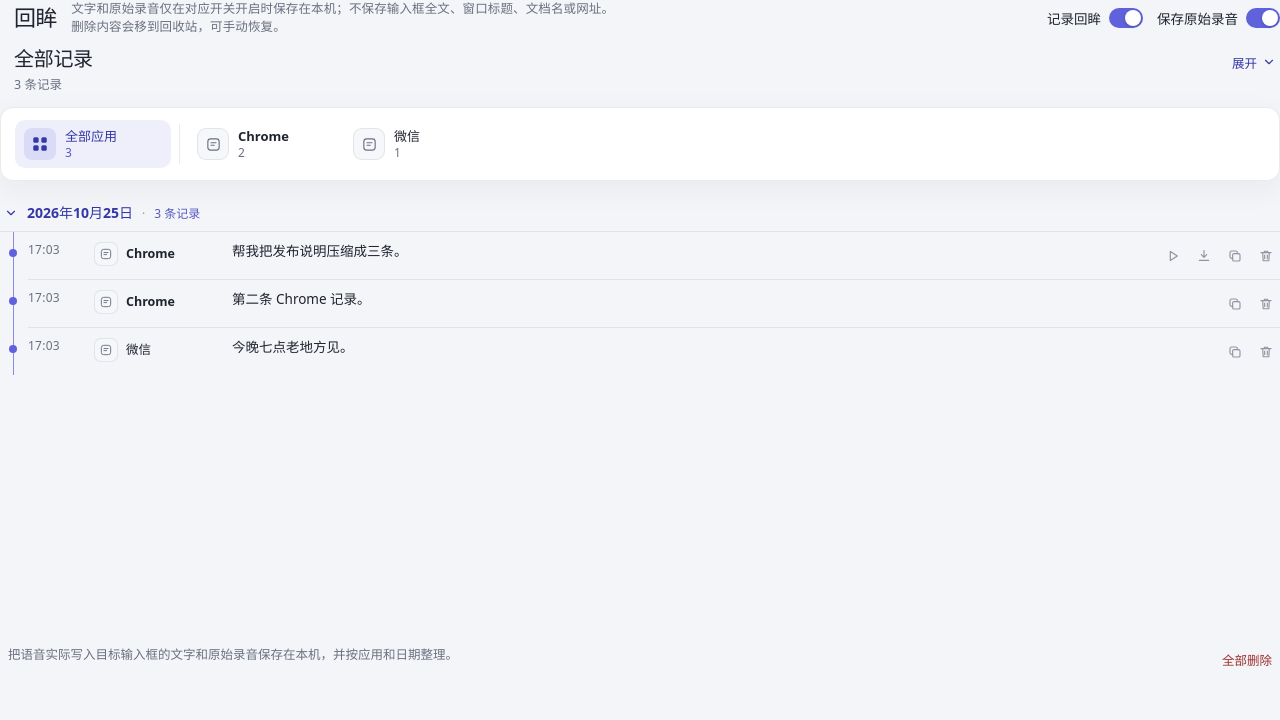
Test: reflections page › deletes the entry and its recording with a single button
Click the button titled "删除这条记录" in the row of "帮我把发布说明压缩成三条。". click: (1266, 256)
box: left=1252, top=242, right=1279, bottom=270
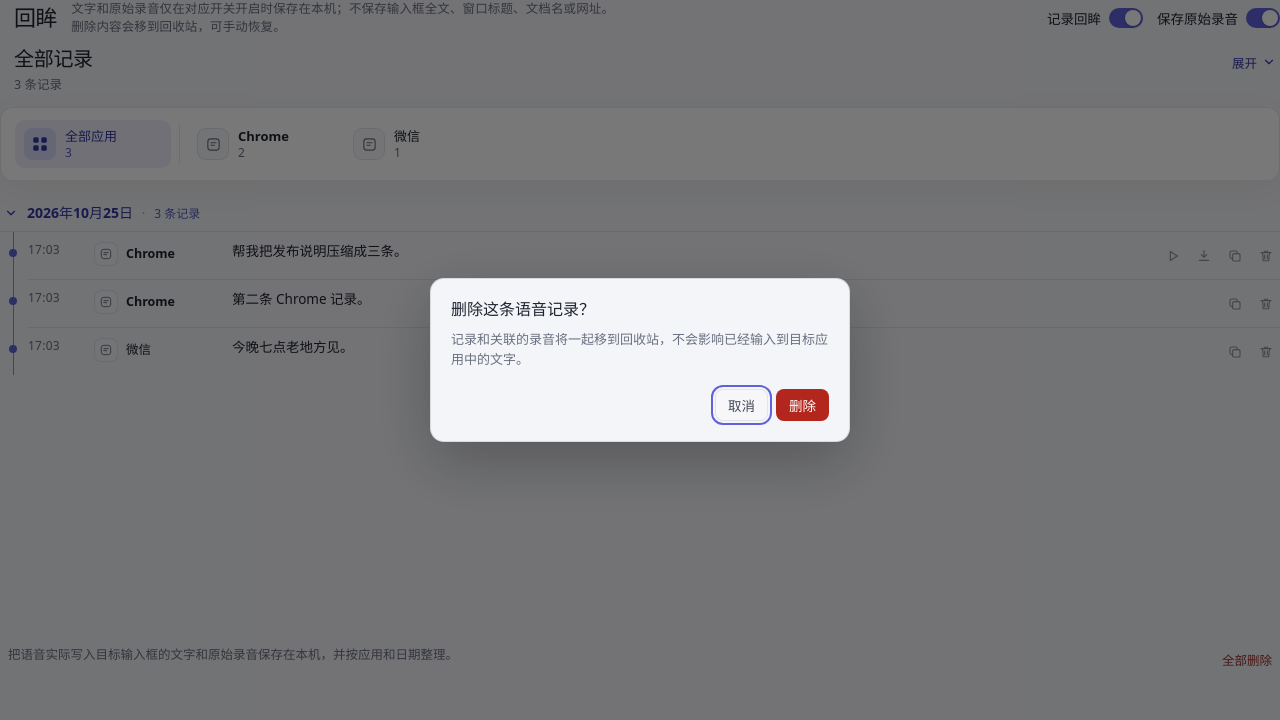
Expected: the text "记录和关联的录音将一起移到回收站" is shown, left=451, top=330, right=828, bottom=368
Click the button "删除". click: (802, 405)
box: left=776, top=389, right=829, bottom=421
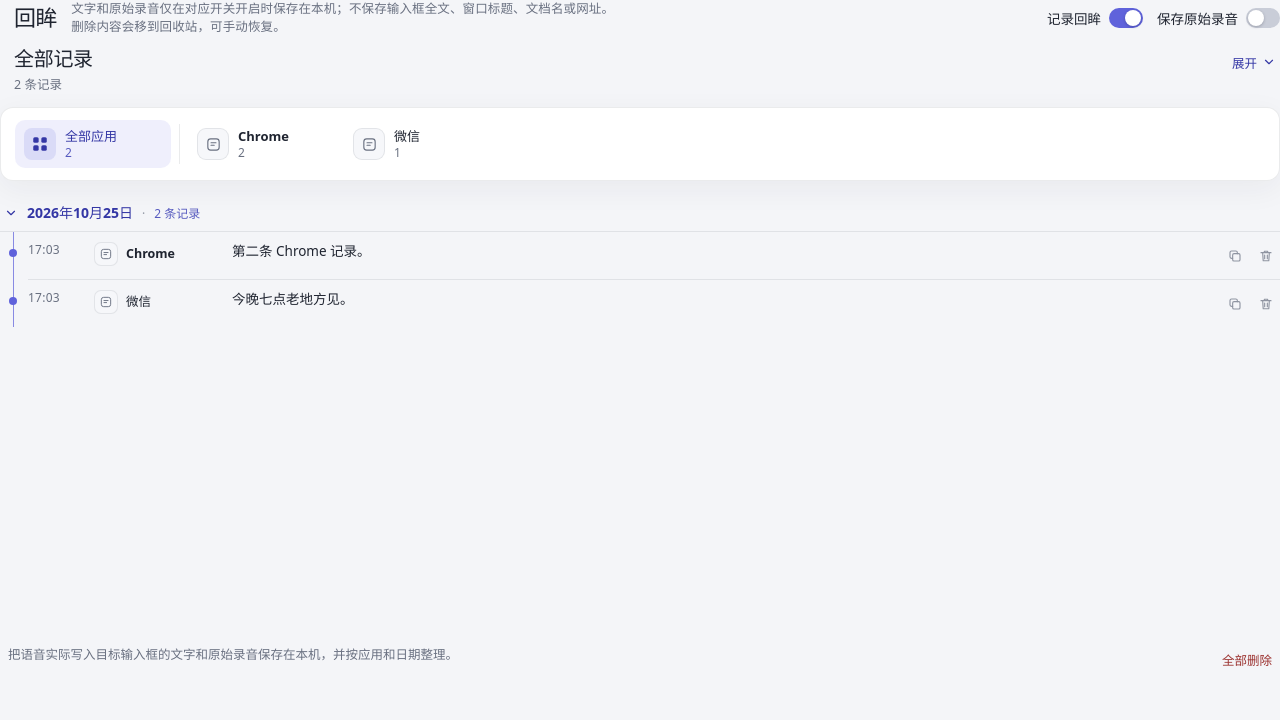
Expected: the text "帮我把发布说明压缩成三条。" is gone
